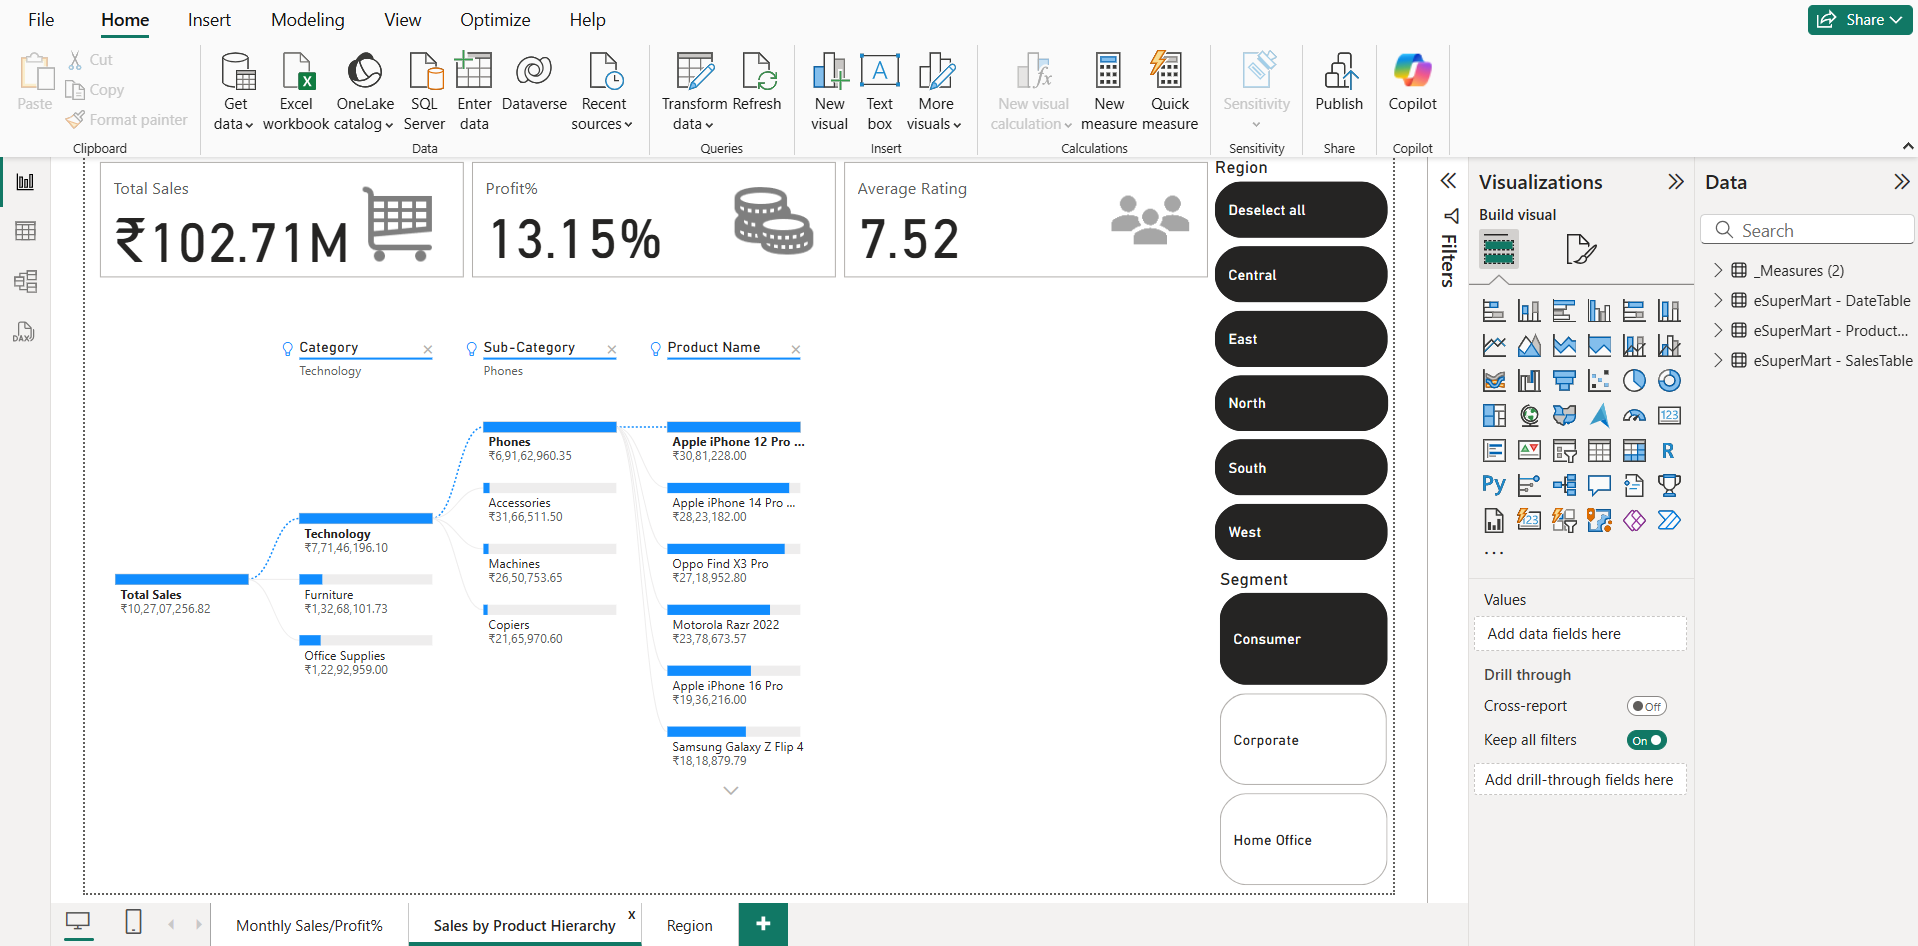

The dashboard page shown, as its layout file describes it:
{"tool":"powerbi","page":{"name":"Sales by Product Hierarchy","canvas":[1280,720],"ordinal":1},"visuals":[{"type":"cardVisual","fields":{"Data":["_Measures (2).Total Sales","_Measures (2).Profit%","_Measures (2).Average Rating"]},"box":[9.8,0,1095.7,123.5],"z":0},{"type":"advancedSlicerVisual","fields":{"Values":["eSuperMart - SalesTable.Region"]},"box":[1100.5,0,179.8,402.3],"z":1000},{"type":"advancedSlicerVisual","fields":{"Values":["eSuperMart - SalesTable.Segment"]},"box":[1105.4,402.3,174.9,317.9],"z":2000},{"type":"decompositionTreeVisual","fields":{"Analyze":["_Measures (2).Total Sales"],"ExplainBy":["eSuperMart - SalesTable.Category","eSuperMart - SalesTable.Sub-Category","eSuperMart - SalesTable.Product Name"]},"box":[0,161.4,1095.7,481.8],"z":3000}]}

Visuals, with their boxes on the page's 1280x720 design canvas (x1, y1, x2, y2). These are canvas units, not pixel positions in the 1918x946 screenshot, which may show the page scaled, cropped or inside an application window:
cardVisual - _Measures (2).Total Sales x _Measures (2).Profit%: (x1=10, y1=0, x2=1106, y2=124)
advancedSlicerVisual - eSuperMart - SalesTable.Region: (x1=1100, y1=0, x2=1280, y2=402)
advancedSlicerVisual - eSuperMart - SalesTable.Segment: (x1=1105, y1=402, x2=1280, y2=720)
decompositionTreeVisual - _Measures (2).Total Sales x eSuperMart - SalesTable.Category: (x1=0, y1=161, x2=1096, y2=643)
